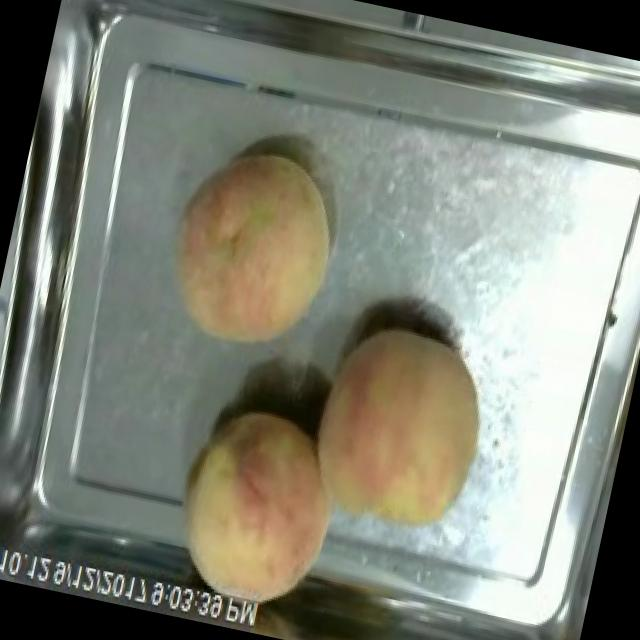Fruit: (290, 308, 509, 554), (147, 132, 360, 370), (155, 390, 363, 632)
